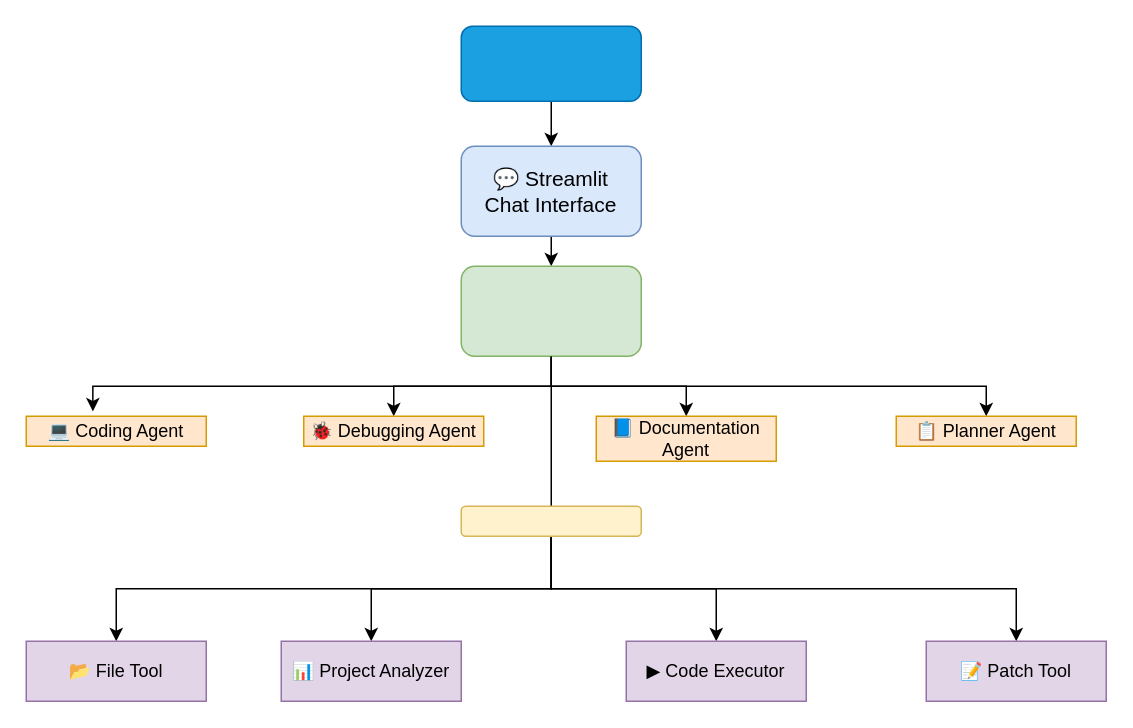
This 1133x728 diagram has some shape labels left out. Here are the shapes that lost their labels. From the top down, the box of each, then its label:
(460, 25, 641, 101): 👤 User
(460, 265, 641, 356): 🧠 Coordinator Agent Decision Engine
(460, 505, 641, 536): 🛠 Tool Layer
